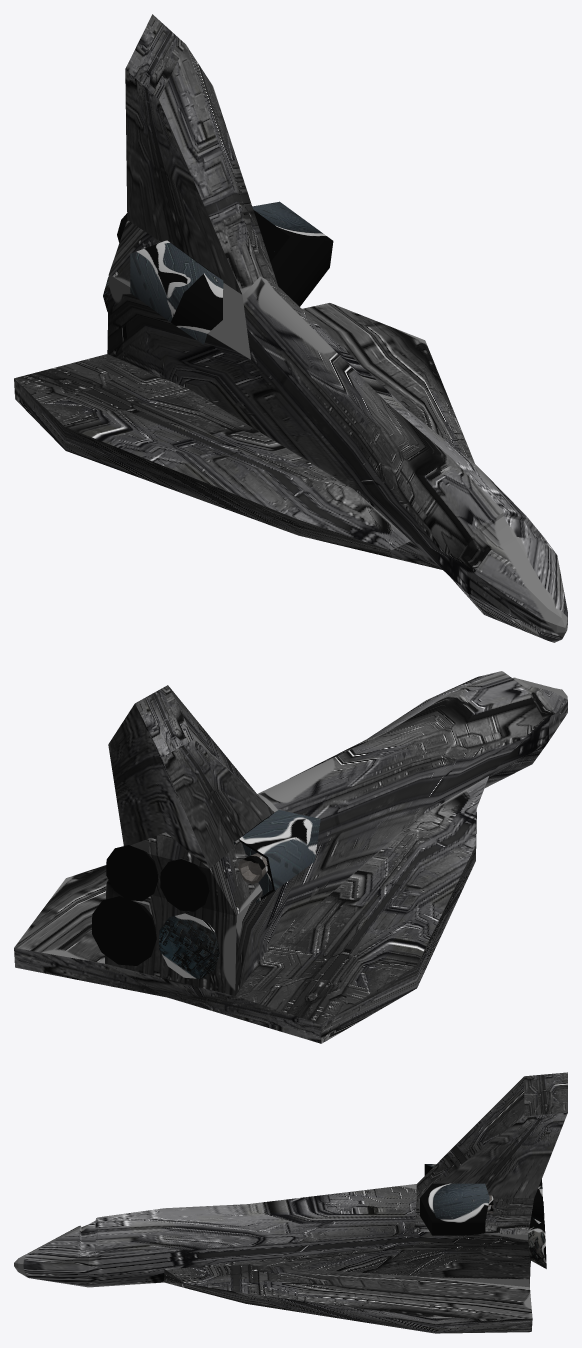
The model's file is worker ship gps 2.fbx.
3 renders of one model, top to bottom at view 1: azimuth 30°, elevation 25°; view 2: azimuth 150°, elevation 25°; view 3: azimuth 270°, elevation 25°, orthographic. The views are drawn at different scales.
Visible parts, largest first — view 1: Box001, Box002; view 2: Box001, Cylinder002, Box002, Cylinder008; view 3: Box001, Box002, Cylinder002.
Boxes of the visible parts, x1,y1,x2,y2 form: Box001: (14,14,567,642); Box002: (130,201,333,344); Box001: (14,671,567,1043); Cylinder002: (92,845,219,978); Box002: (233,810,320,903); Cylinder008: (238,853,268,883); Box001: (14,1072,567,1333); Box002: (420,1164,489,1235); Cylinder002: (528,1179,546,1268).
Size of the model in its own units: 114 by 102 by 233.
Materials: 4 (4 with a texture image).
